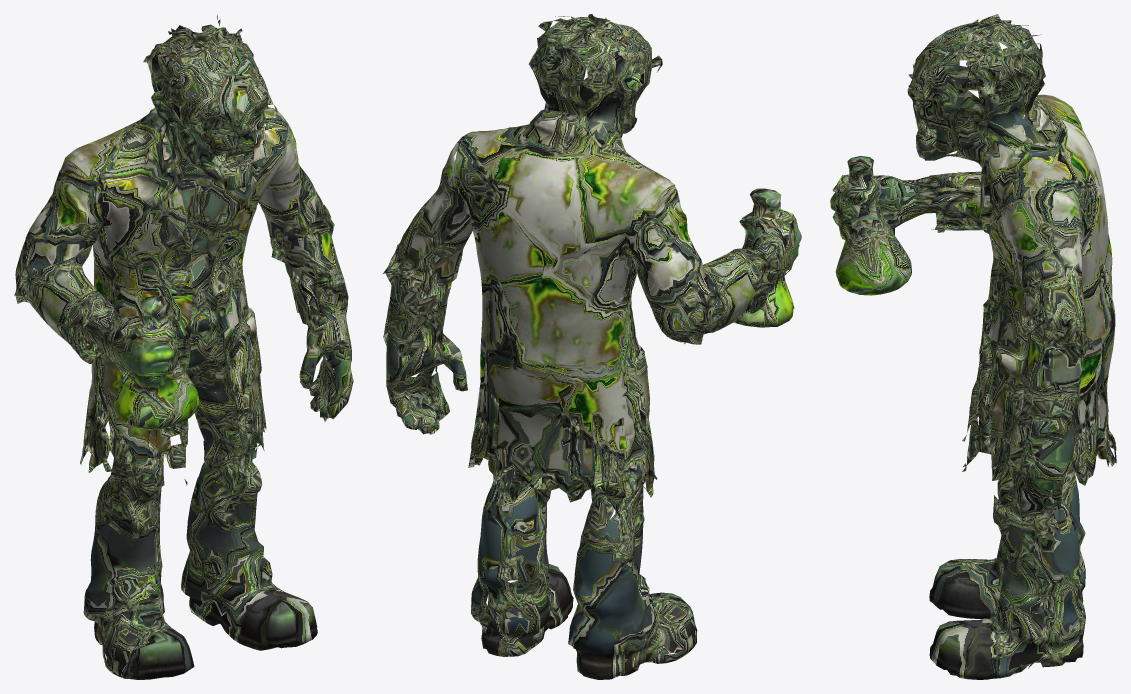
File: Meshy_AI_Neon_Plague_Chemist_0626210338_optimized.glb
3 views of the same model, side by side, from view 1: azimuth 30°, elevation 25°; view 2: azimuth 150°, elevation 25°; view 3: azimuth 270°, elevation 25° (orthographic).
Visible parts, largest first — view 1: optimized-acid-chemist; view 2: optimized-acid-chemist; view 3: optimized-acid-chemist.
Part boxes in pixels (left/top/right/bottom): optimized-acid-chemist: left=14, top=14, right=353, bottom=679; optimized-acid-chemist: left=383, top=14, right=801, bottom=679; optimized-acid-chemist: left=830, top=14, right=1116, bottom=679.
Bounding box in the file's own units: 1.06 × 1.89 × 0.7989.
1 material, 1 textured.
